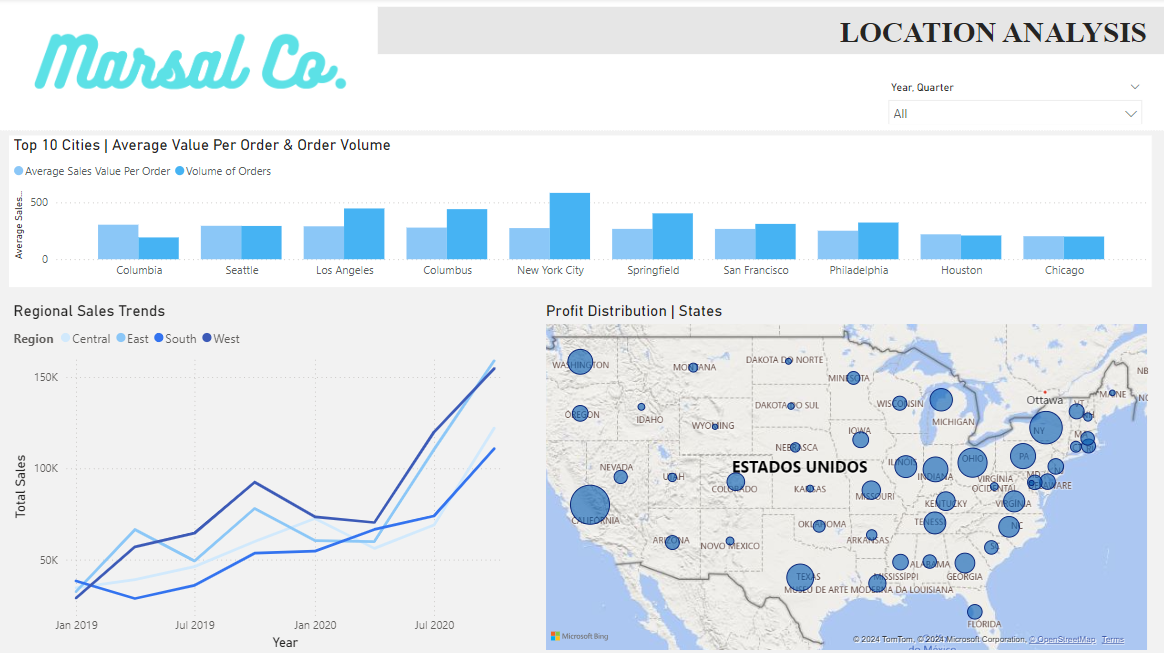

The dashboard page shown, as its layout file describes it:
{"tool":"powerbi","page":{"name":"Location Analysis","canvas":[1280,720],"ordinal":2},"visuals":[{"type":"map","title":"Profit Distribution | States","fields":{"Category":["Dim_Location.State","Dim_Location.Country"],"Size":["_Measures.Total Profit"]},"box":[595.5,333.4,669.6,387],"z":0},{"type":"lineChart","title":"Regional Sales Trends","fields":{"Y":["_Measures.Total Sales"],"Series":["Dim_Location.Region"],"Category":["Dim_Date.Date.Variation.Date Hierarchy.Year","Dim_Date.Date.Variation.Date Hierarchy.Quarter"]},"box":[11,333.4,559.9,387],"z":1000},{"type":"clusteredColumnChart","title":"Top 10 Cities | Average Value Per Order & Order Volume","fields":{"Category":["Dim_Location.City"],"Y":["_Measures.Average Sales Value Per Order","_Measures.Volume of Orders"]},"box":[11,150.9,1254.2,166],"z":2000},{"type":"slicer","fields":{"Values":["Dim_Date.Date.Variation.Date Hierarchy.Year","Dim_Date.Date.Variation.Date Hierarchy.Quarter"]},"box":[966,86.4,299.1,52.1],"z":3000},{"type":"image","box":[11,9.6,391.1,124.9],"z":4000},{"type":"shape","box":[415.5,9.6,864.5,52.1],"z":4001},{"type":"textbox","box":[918,9.6,362.3,52.1],"z":4002}]}

Visuals, with their boxes in screenshot pixels (x1, y1, x2, y2), scaled from the page's 1280x720 canvas onto the 1164x653 screenshot:
"Profit Distribution | States" map: (left=542, top=302, right=1150, bottom=652)
"Regional Sales Trends" lineChart: (left=10, top=302, right=519, bottom=652)
"Top 10 Cities | Average Value Per Order & Order Volume" clusteredColumnChart: (left=10, top=137, right=1151, bottom=287)
slicer - Dim_Date.Date.Variation.Date Hierarchy.Year x Dim_Date.Date.Variation.Date Hierarchy.Quarter: (left=878, top=78, right=1150, bottom=126)
image: (left=10, top=9, right=366, bottom=122)
shape: (left=378, top=9, right=1163, bottom=56)
textbox: (left=835, top=9, right=1163, bottom=56)
